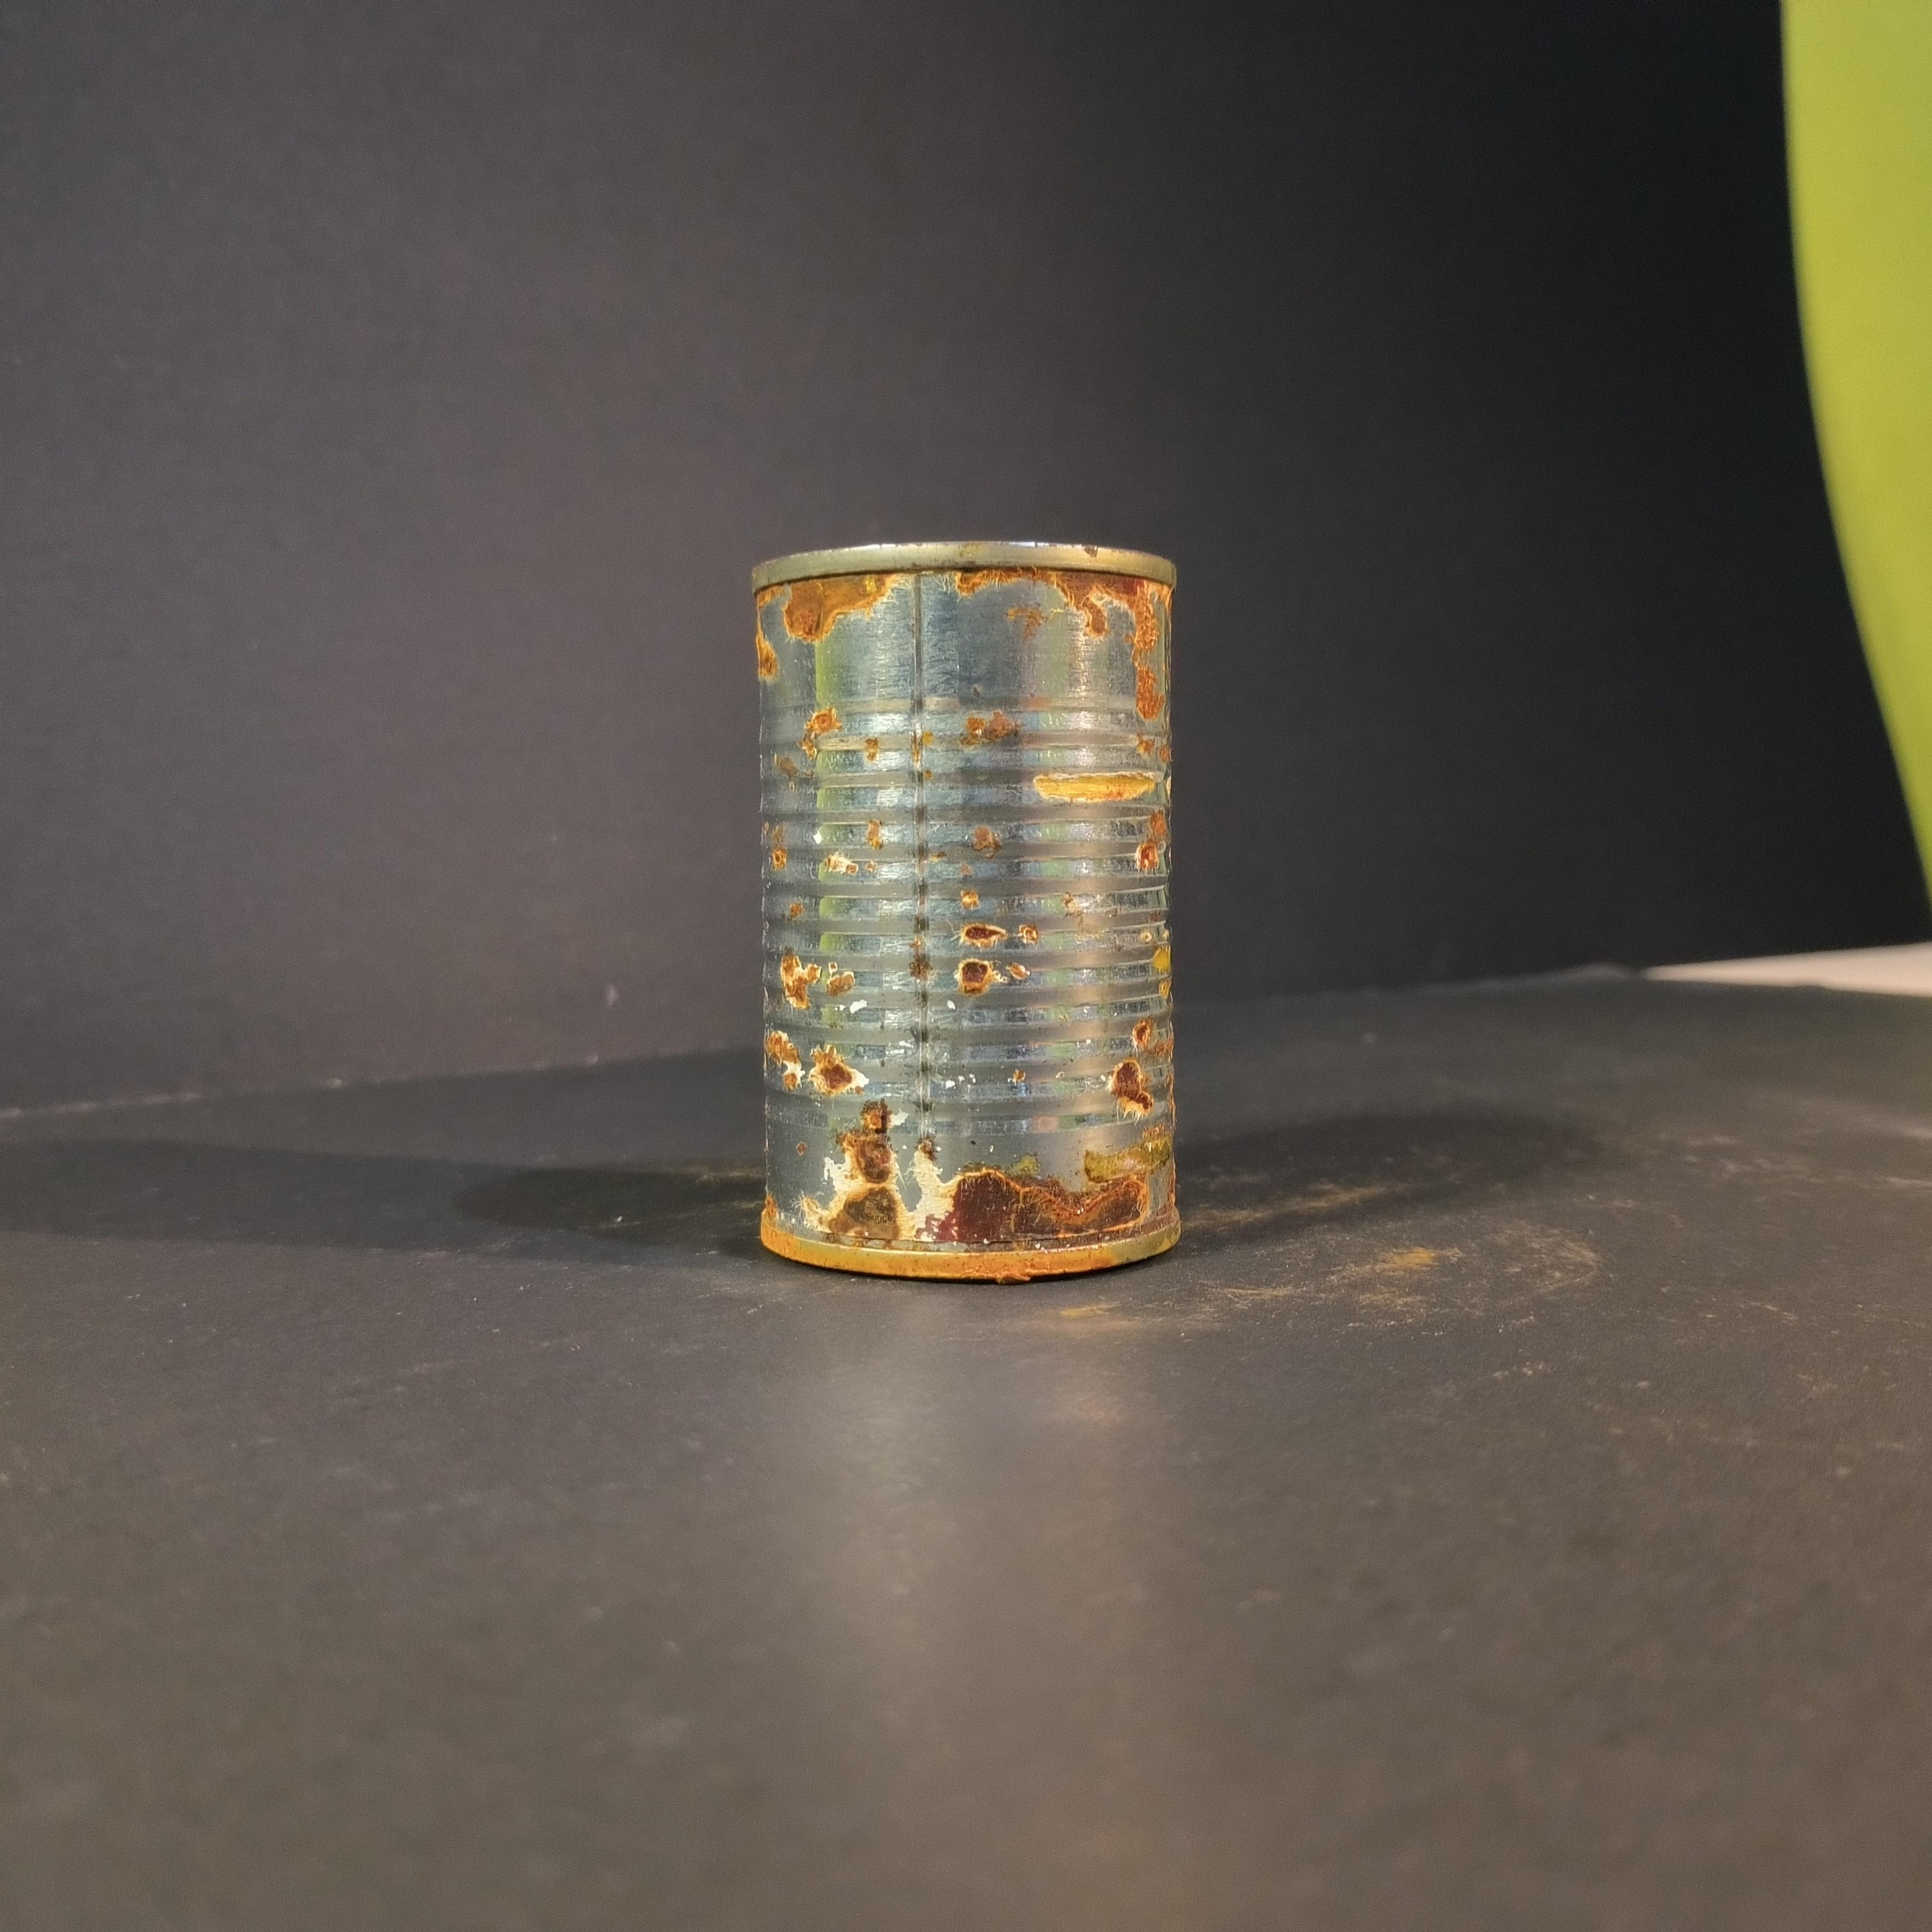Rusted: (734, 520, 1196, 1277)
